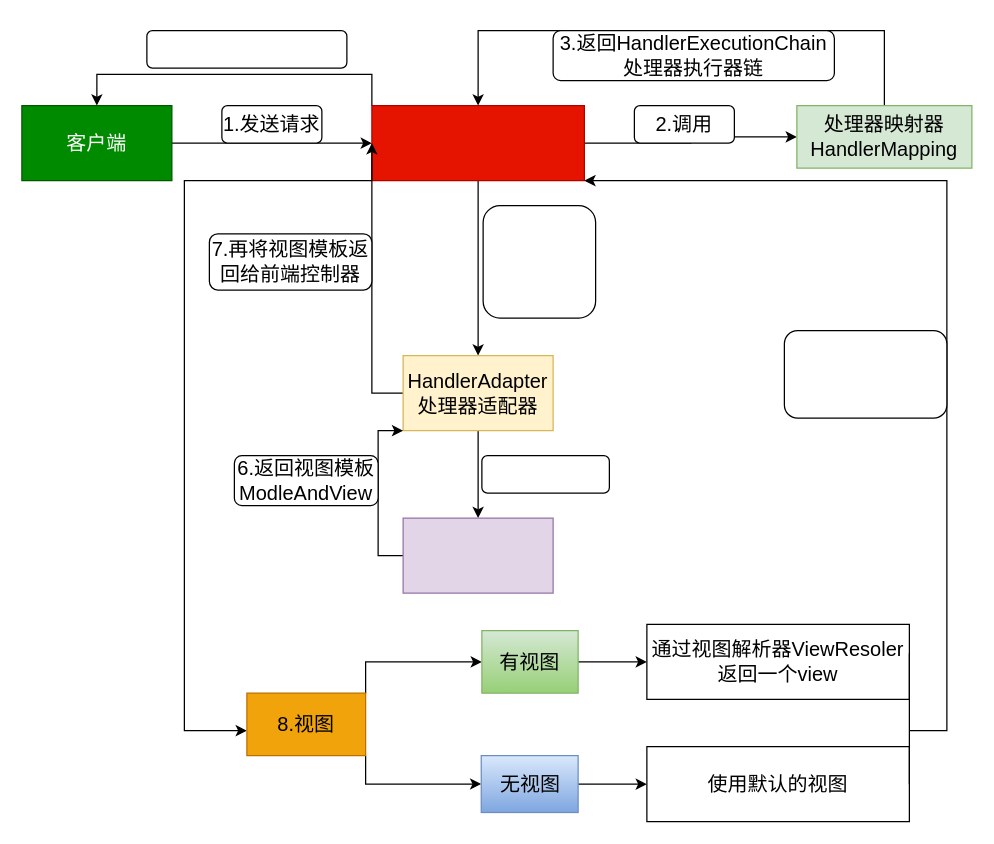
Image size: 994x844. Some labels were removed from this diagram. The centre of each missing label's shape, as x and y in pixels:
10.最终相应给客户端: point 246,48
4.通过处理器适配器调用具体的处理器: point 539,261
5.调用处理器: point 545,473
9.前端控制器根据view进行视图渲染: point 865,373
Handler Controller: point 477,555
前端控制器 dispactherServlet: point 477,142
